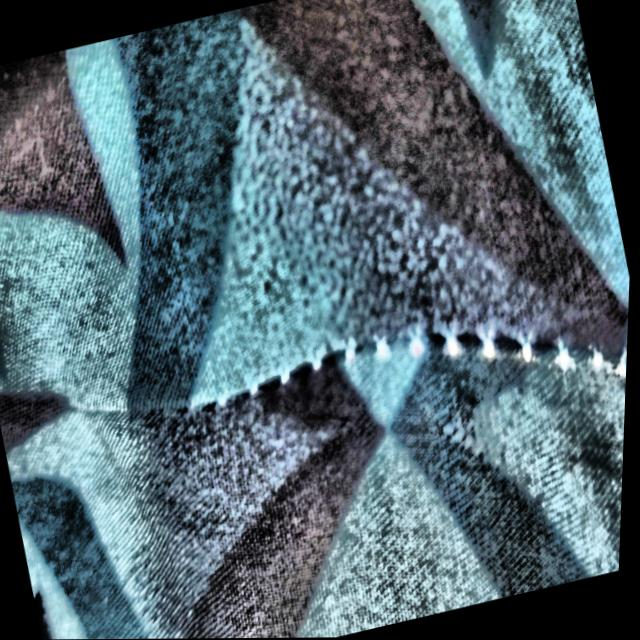Stitch: (183, 263, 632, 484)
